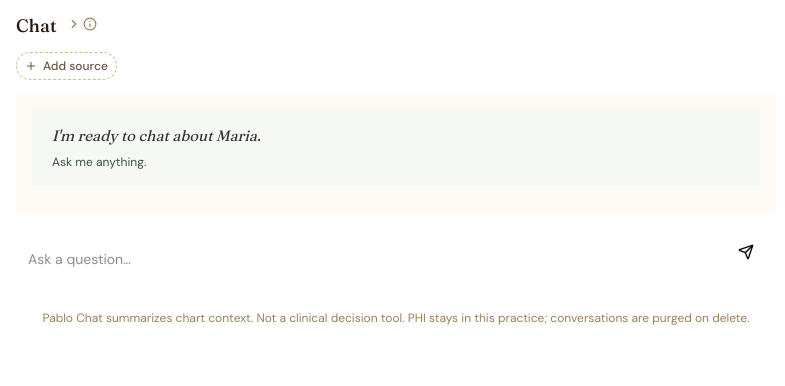
ChatPanelWithHistory — new-chat first message (PABLO-6x5.8) › keeps the first message and its reply when the conversation is lazily created
The image size is (785, 386).
Type "Summarize Maria's last few sessions" into the text box named "Message".
click(374, 260); type("Summarize Maria's last few sessions")  # box [28,248,720,272]
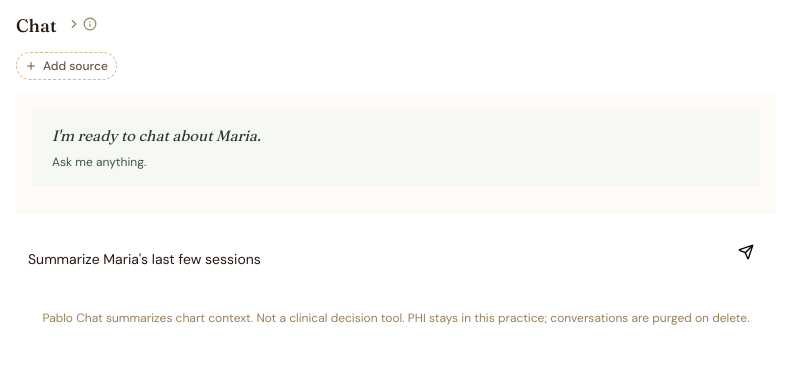
Click the button named "Send".
click(746, 252)  # box [728,234,764,270]
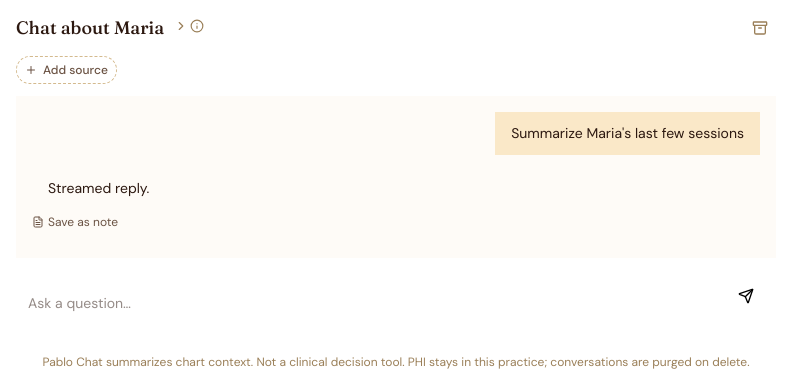
Check: the text "Summarize Maria's last few sessions" is shown, box [495,112,760,155]
Check: the text "Streamed reply." is shown, box [48,179,149,197]
